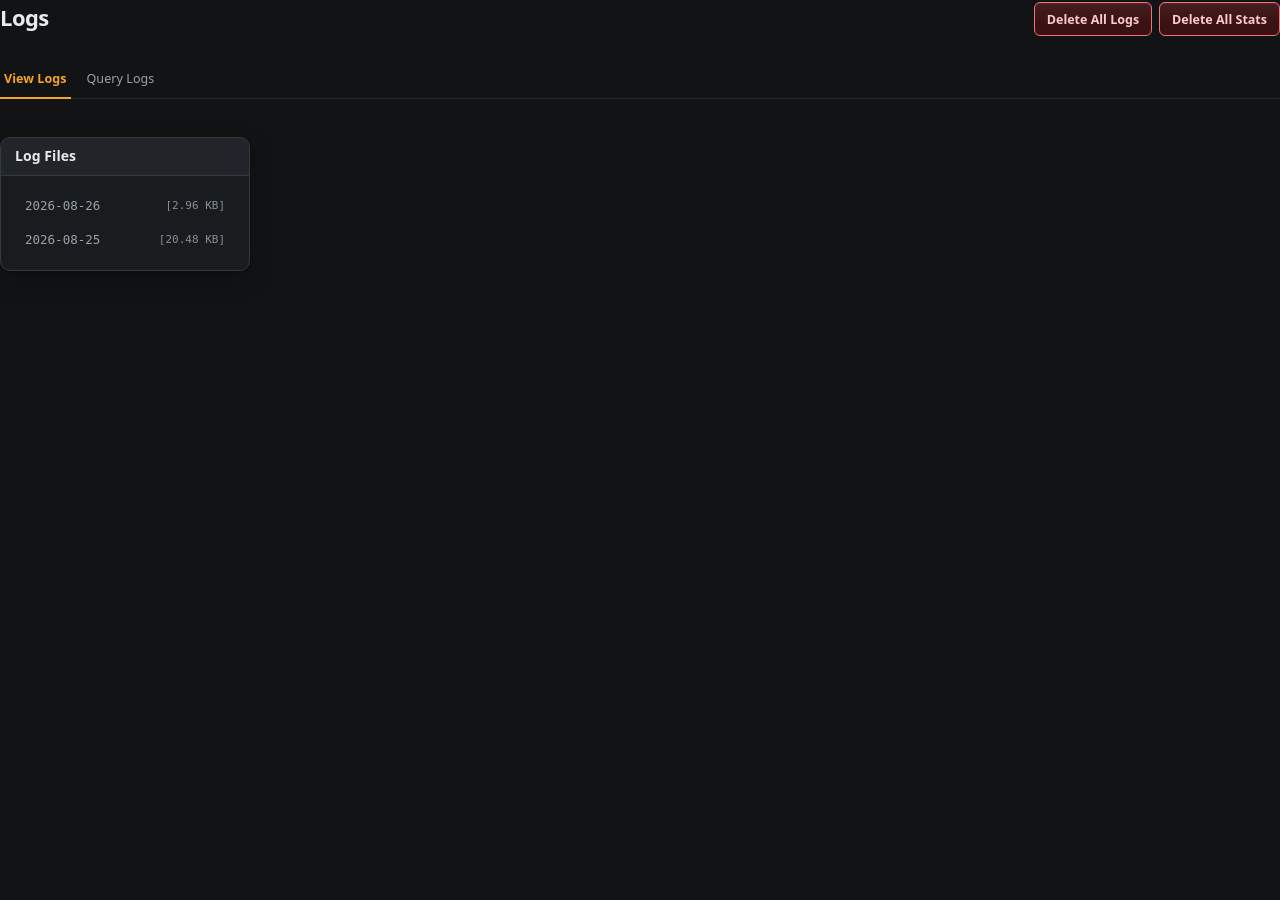
Test: Logs › View Logs › deleting a file confirms with its name and alerts with the literal text
The width and height of the screenshot is (1280, 900).
Click the text "2026-08-26" at (63, 206), box x1=25 y1=198 x2=100 y2=214
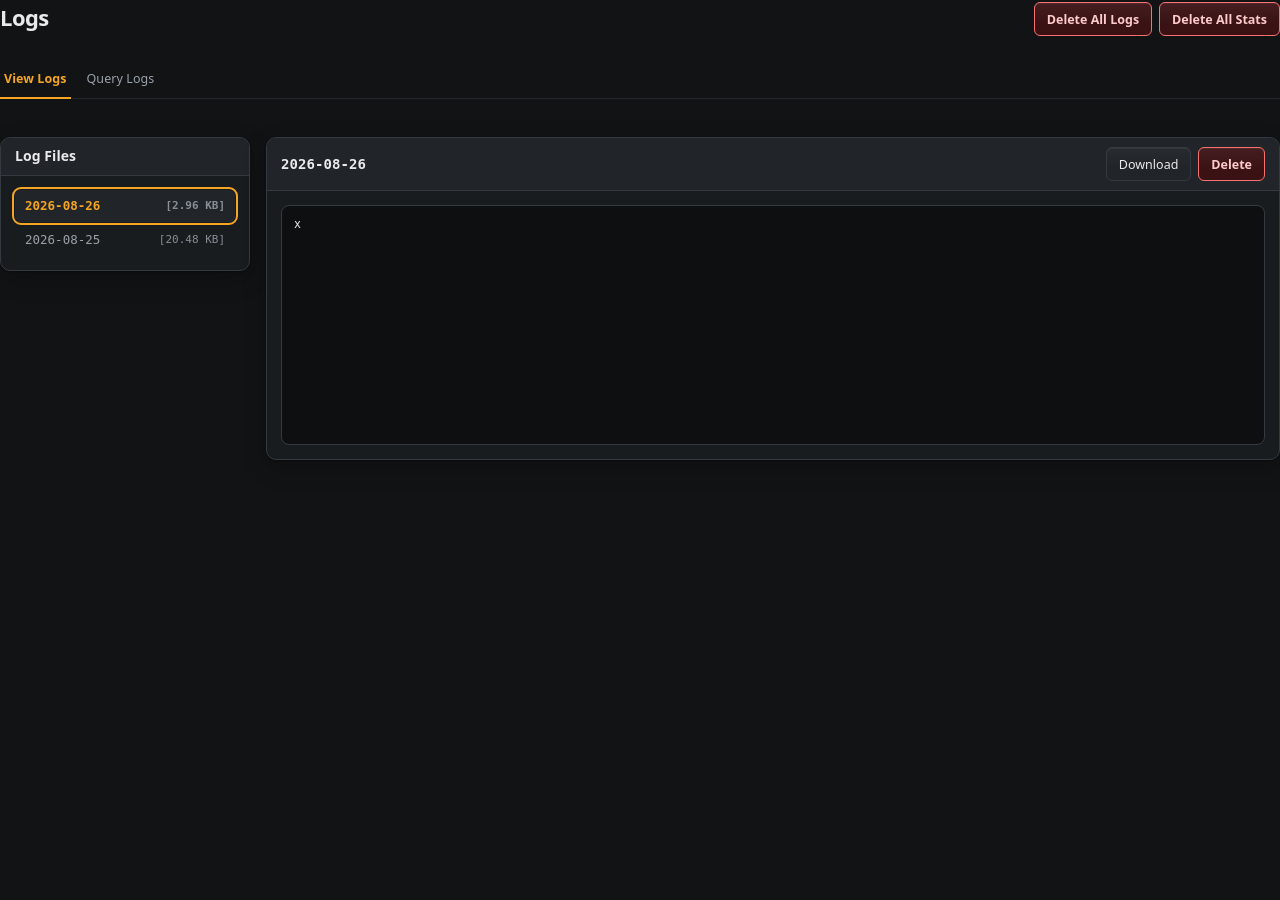
Check: the text "x" is shown, box x1=294 y1=217 x2=301 y2=231
Click the button "Delete" at (1232, 164), box x1=1198 y1=147 x2=1265 y2=181
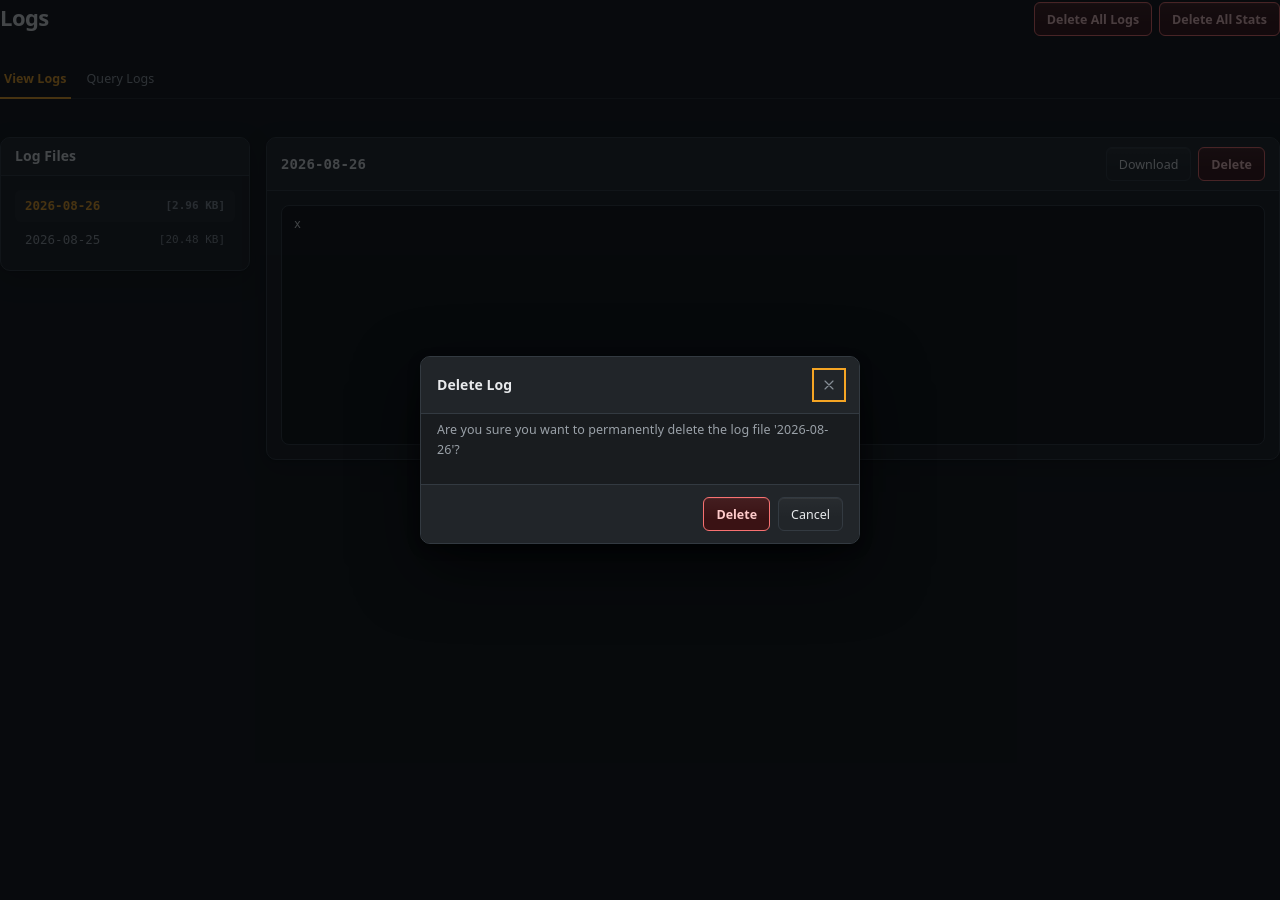
Check: the text "Are you sure you want to permanently delete the log file '2026-08-26'?" is shown, box x1=437 y1=420 x2=843 y2=460
Click the button "Delete" at (737, 514), box x1=703 y1=497 x2=770 y2=531
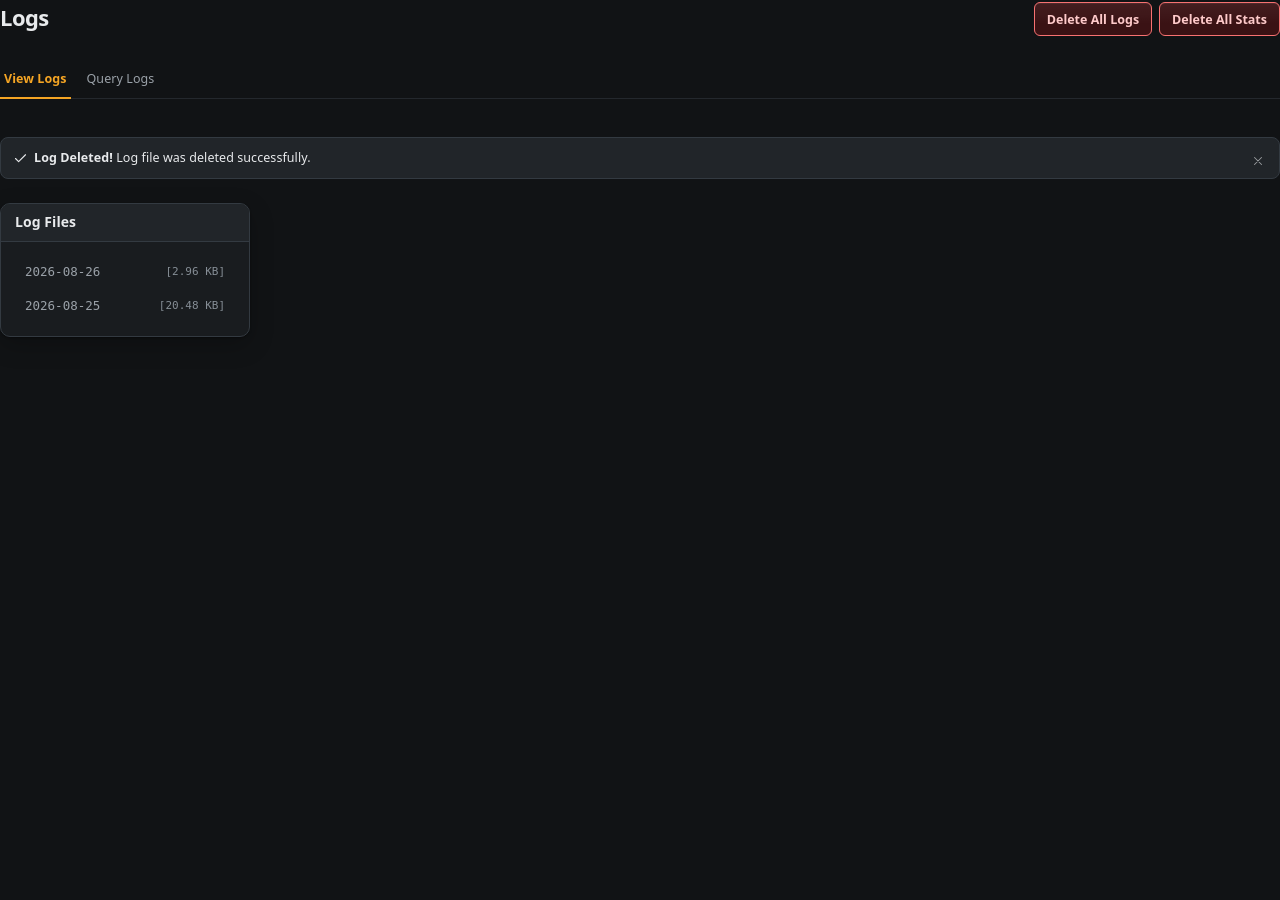
Check: the text "Log Deleted!" is shown, box x1=34 y1=149 x2=113 y2=166
Check: the text "Log file was deleted successfully." is shown, box x1=116 y1=149 x2=310 y2=166
